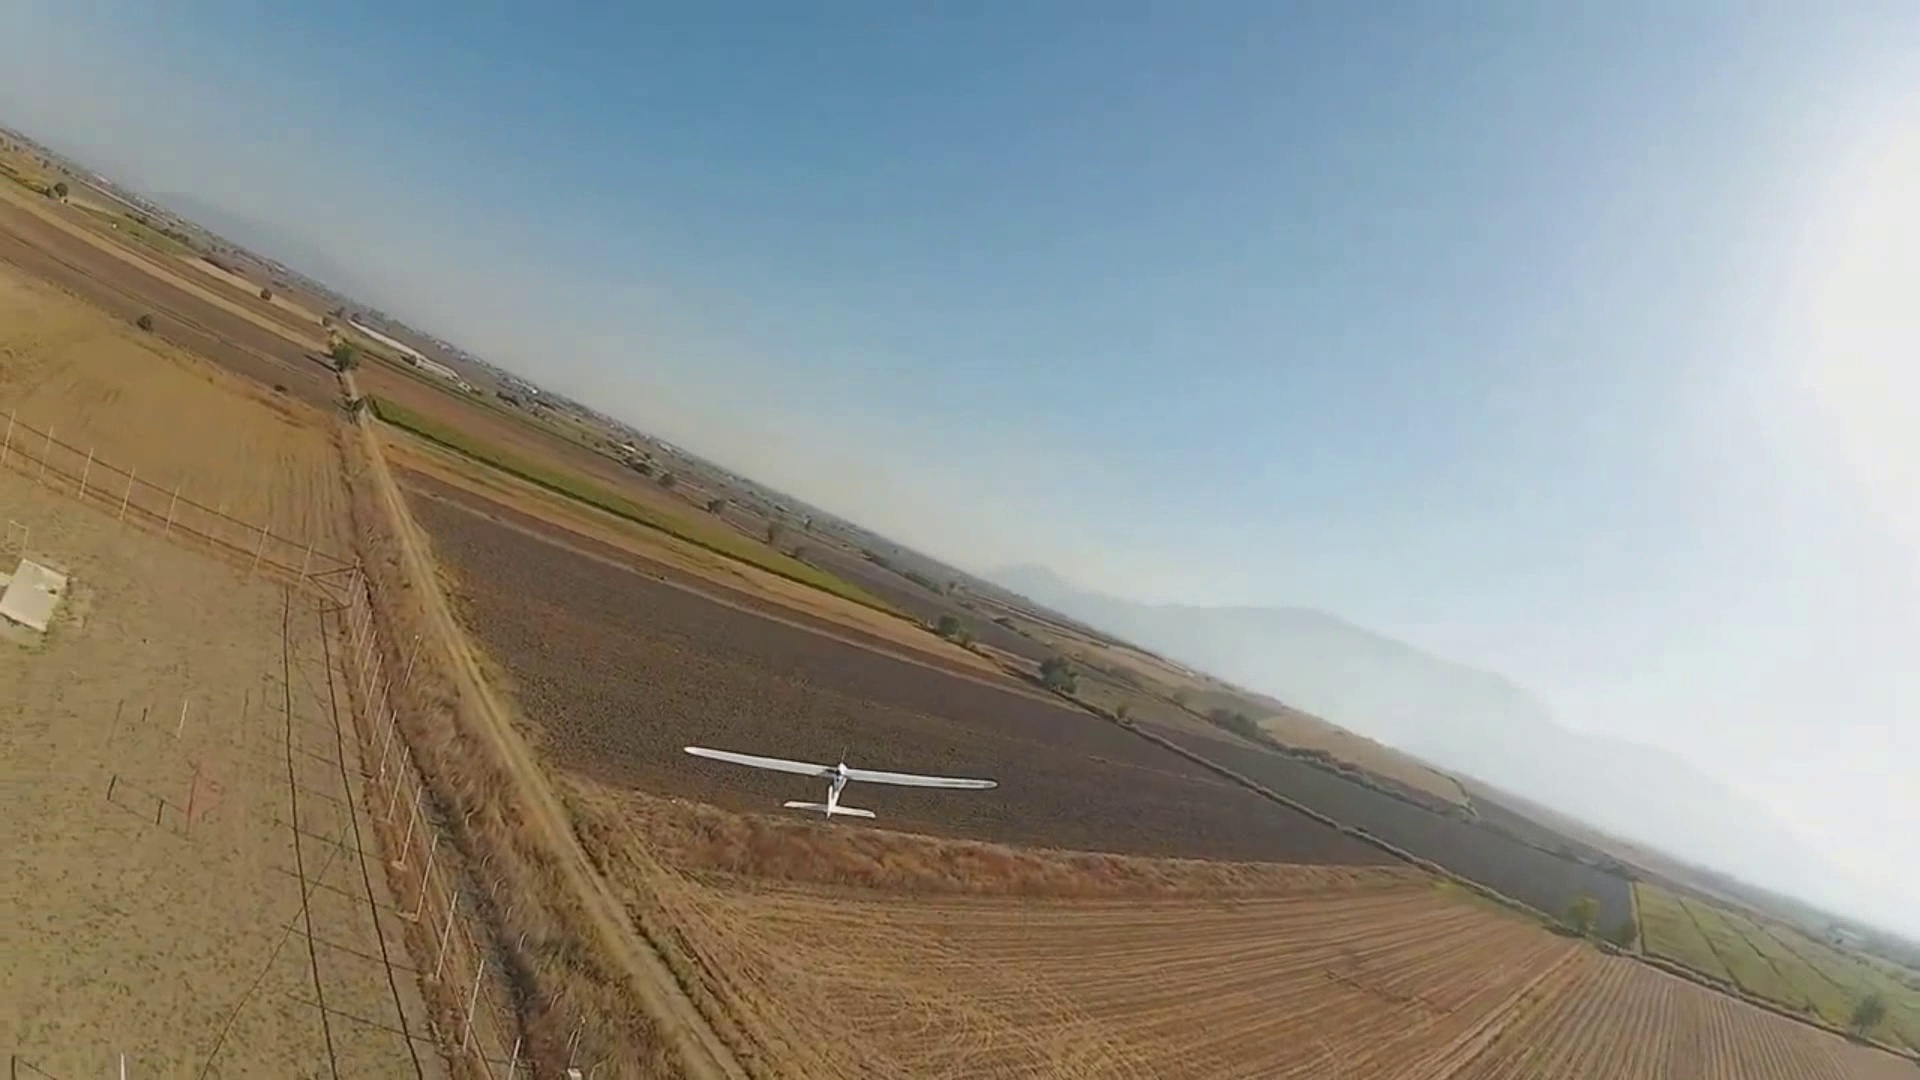airplane: (9, 198, 1920, 1001), (680, 742, 996, 821)
